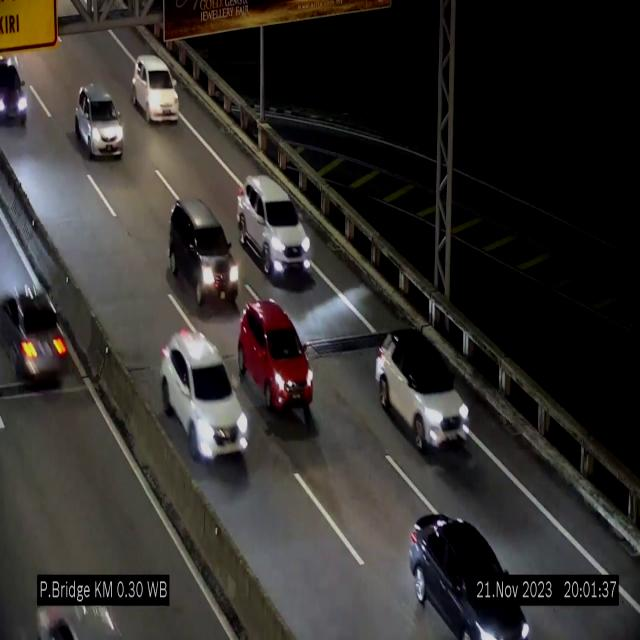Car: (412, 488, 537, 640), (375, 329, 471, 451), (160, 330, 248, 463), (233, 302, 319, 418), (164, 193, 240, 310), (236, 176, 313, 282), (0, 285, 74, 391), (0, 48, 44, 135), (75, 86, 123, 158), (131, 56, 179, 123)
